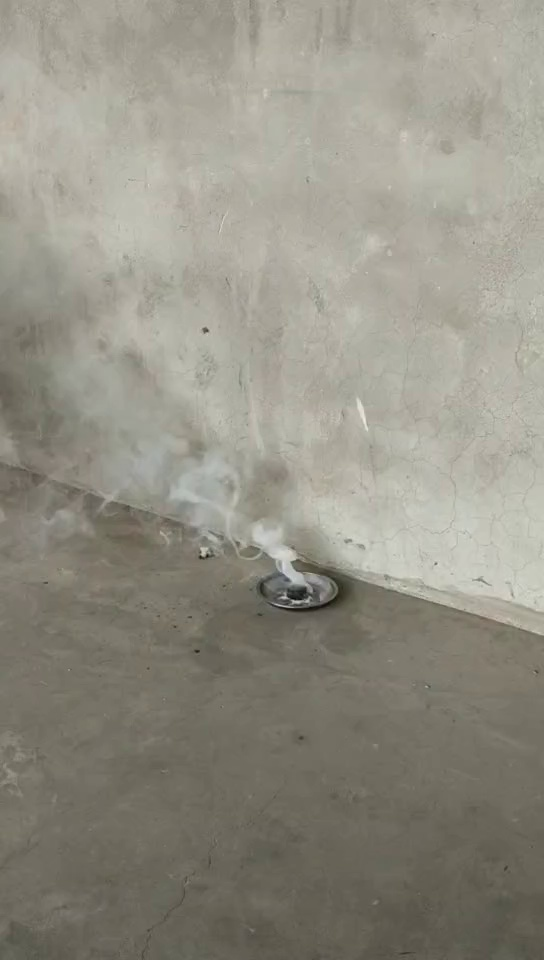yanwu: (59, 319, 299, 568)
